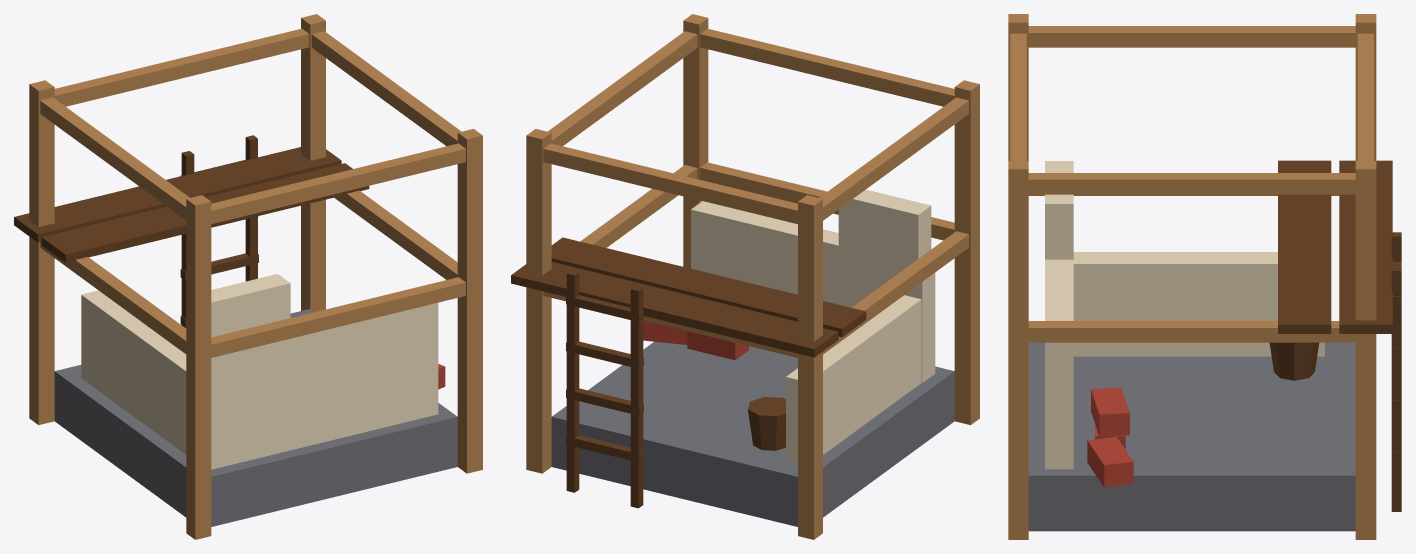
The model's file is Scaffold.fbx.
3 views of the same model, side by side, from view 1: azimuth 30°, elevation 25°; view 2: azimuth 150°, elevation 25°; view 3: azimuth 270°, elevation 25° (orthographic). The views are drawn at different scales.
Visible parts, largest first — view 1: Scaffold; view 2: Scaffold; view 3: Scaffold.
Boxes of the visible parts, <box> form: Scaffold: <box>14,14,482,539</box>; Scaffold: <box>511,14,979,539</box>; Scaffold: <box>1008,14,1401,539</box>.
Size of the model in its own units: 1.9 by 2 by 1.93.
